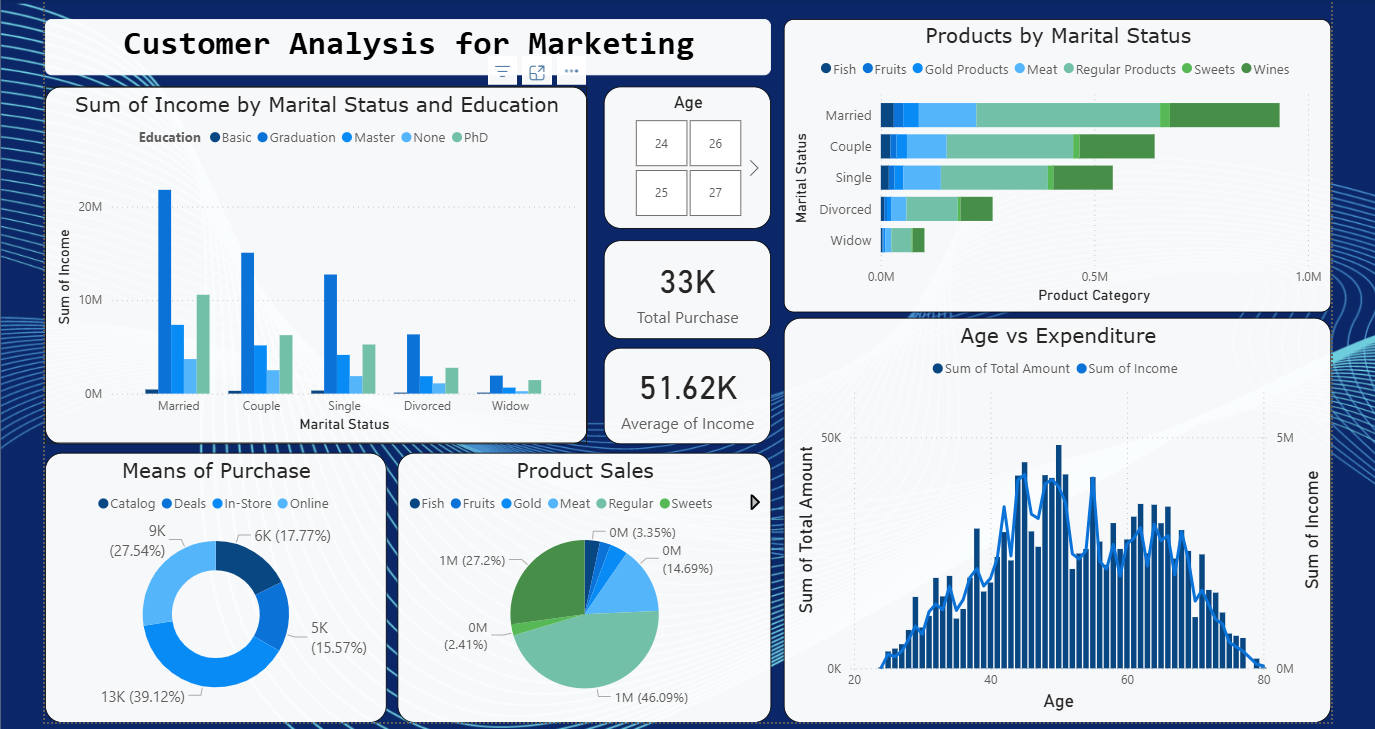

Layout of this report page (visuals, bound fields, positions):
{"tool":"powerbi","page":{"name":"Page 1","canvas":[1280,720],"ordinal":0},"visuals":[{"type":"textbox","title":"Customer Analysis for Marketing","box":[0,19.9,722.7,56],"z":0},{"type":"barChart","title":"Products by Marital Status","fields":{"Y":["Sum(ifood_df.Amount_FishProducts)","Sum(ifood_df.Amount_Fruits)","Sum(ifood_df.Amount_GoldProds)","Sum(ifood_df.Amount_MeatProducts)","Sum(ifood_df.Amount_RegularProds)","Sum(ifood_df.Amount_SweetProducts)","Sum(ifood_df.Amount_Wines)"],"Category":["ifood_df.Marital_Status"]},"box":[735.2,19.9,544.9,292.3],"z":1000},{"type":"card","fields":{"Values":["Avg(ifood_df.Income)"]},"box":[556,347.1,166.7,95.8],"z":2000},{"type":"clusteredColumnChart","title":"Sum of Income by Marital Status and Education","fields":{"Y":["Sum(ifood_df.Income)"],"Category":["ifood_df.Marital_Status"],"Series":["ifood_df.Education"]},"box":[0,87.1,539.9,355.8],"z":3000},{"type":"donutChart","title":"Means of Purchase","fields":{"Y":["Sum(ifood_df.No.CatalogPurchases)","Sum(ifood_df.No.DealsPurchases)","Sum(ifood_df.No.StorePurchases)","Sum(ifood_df.No.WebPurchases)"]},"box":[0,451.6,339.6,268.7],"z":4000},{"type":"card","fields":{"Values":["Sum(ifood_df.Total_Purchase)"]},"box":[556,240.1,166.7,98.3],"z":5000},{"type":"slicer","title":"Age","fields":{"Values":["ifood_df.Age"]},"box":[556,87.1,166.7,141.8],"z":6000},{"type":"pieChart","title":"Product Sales","fields":{"Y":["Sum(ifood_df.Amount_FishProducts)","Sum(ifood_df.Amount_Fruits)","Sum(ifood_df.Amount_GoldProds)","Sum(ifood_df.Amount_MeatProducts)","Sum(ifood_df.Amount_RegularProds)","Sum(ifood_df.Amount_SweetProducts)","Sum(ifood_df.Amount_Wines)"]},"box":[350.8,451.6,371.9,268.7],"z":7000},{"type":"lineClusteredColumnComboChart","title":"Age vs Expenditure","fields":{"Category":["ifood_df.Age"],"Y":["Sum(ifood_df.Amount_Total)"],"Y2":["Sum(ifood_df.Income)"]},"box":[735.2,317.2,544.9,403],"z":8000}]}

Visuals, with their boxes in screenshot pixels (x1, y1, x2, y2):
"Customer Analysis for Marketing" textbox: left=43, top=16, right=766, bottom=72
"Products by Marital Status" barChart: left=779, top=16, right=1324, bottom=309
card - Avg(ifood_df.Income): left=599, top=344, right=766, bottom=440
"Sum of Income by Marital Status and Education" clusteredColumnChart: left=43, top=84, right=583, bottom=440
"Means of Purchase" donutChart: left=43, top=448, right=383, bottom=717
card - Sum(ifood_df.Total_Purchase): left=599, top=237, right=766, bottom=335
"Age" slicer: left=599, top=84, right=766, bottom=225
"Product Sales" pieChart: left=394, top=448, right=766, bottom=717
"Age vs Expenditure" lineClusteredColumnComboChart: left=779, top=314, right=1324, bottom=717
